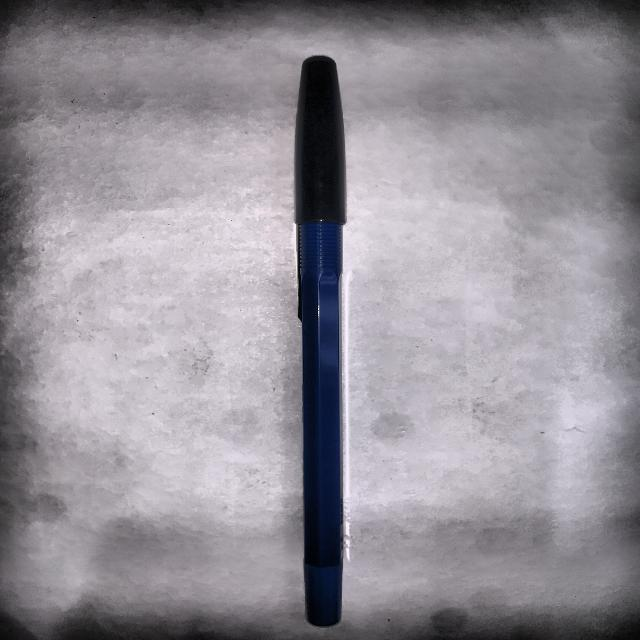Pulpen: (267, 50, 368, 633)
